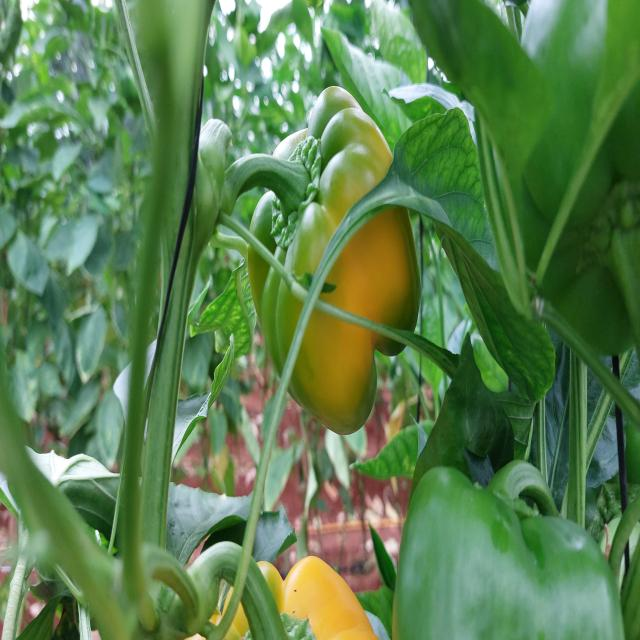Green--Not-ready-to-harvest: (398, 457, 632, 640)
GreenishYellow--Can-be-Harvested: (216, 74, 433, 442), (194, 511, 376, 640)
